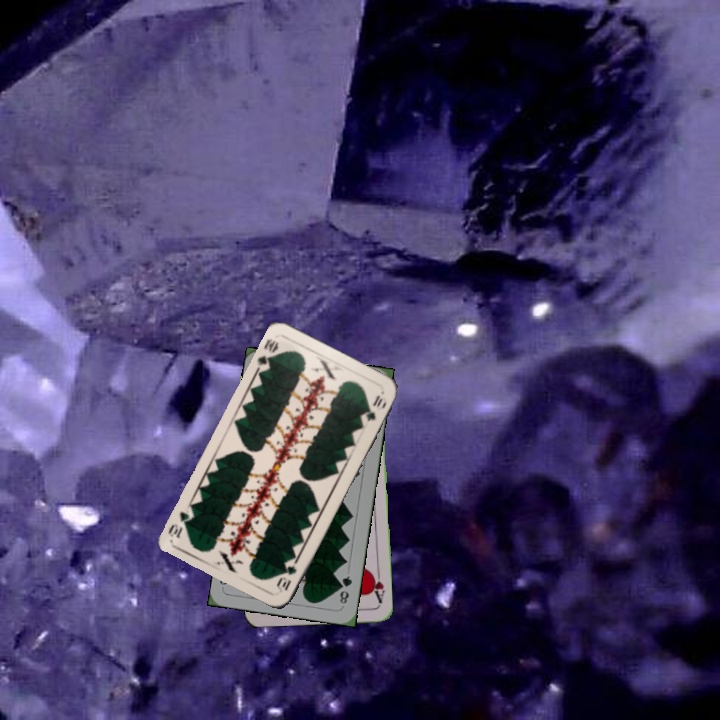G10: (253, 334, 281, 374), (273, 561, 299, 595)
G8: (336, 571, 355, 607)
HA: (367, 566, 387, 606)
